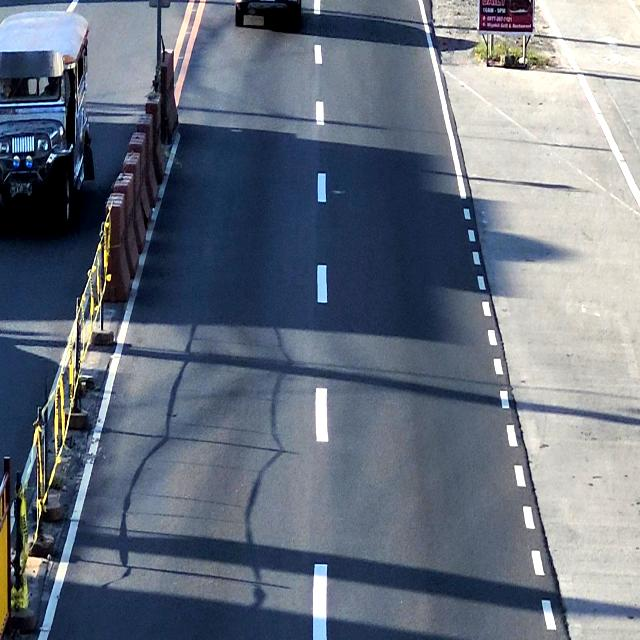Car: (233, 0, 306, 27)
